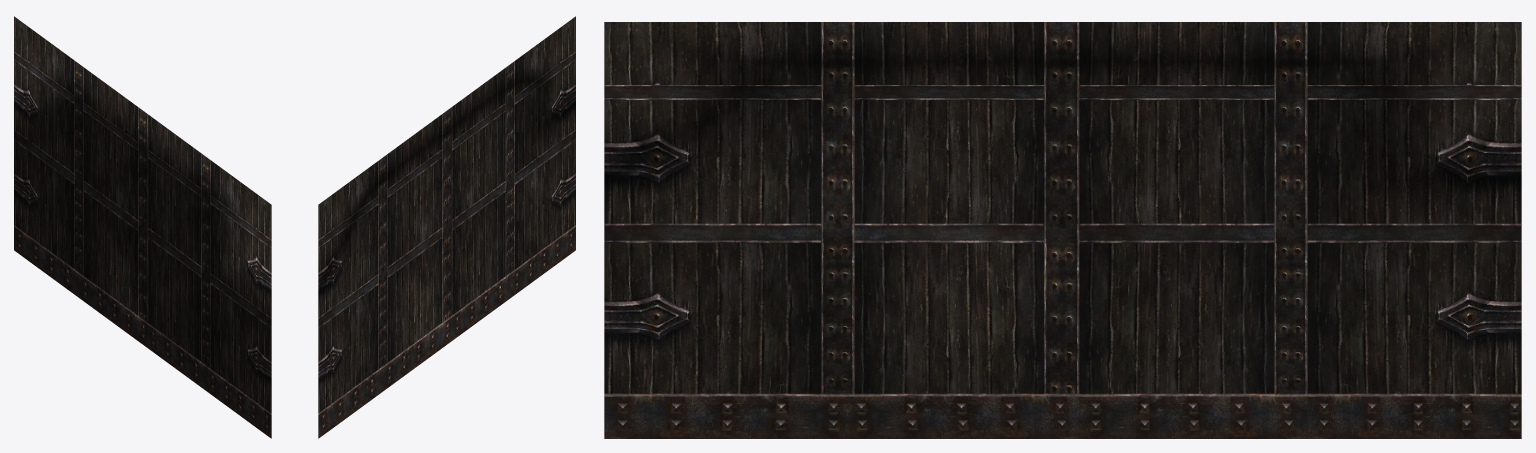
The model's file is monster_91212.glb.
The picture shows the model from 3 angles, left to right: view 1: azimuth 30°, elevation 25°; view 2: azimuth 150°, elevation 25°; view 3: azimuth 270°, elevation 25°; orthographic projection. The views are drawn at different scales.
Visible parts, largest first — view 1: CM_02_912_12; view 2: CM_02_912_12; view 3: CM_02_912_12.
Boxes of the visible parts, x1,y1,x2,y2 form: CM_02_912_12: [14, 16, 271, 438]; CM_02_912_12: [318, 16, 575, 438]; CM_02_912_12: [604, 22, 1521, 438].
Size of the model in its own units: 0.5 by 12.21 by 24.35.
1 material, 1 textured.
